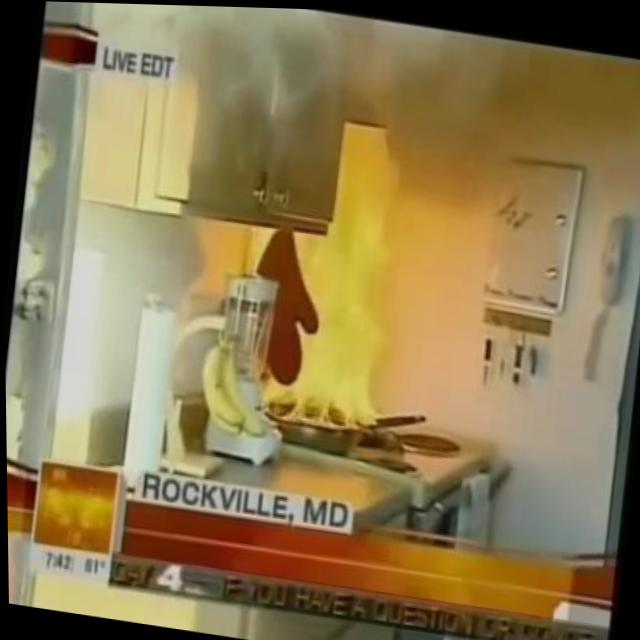fire: (245, 161, 405, 433)
